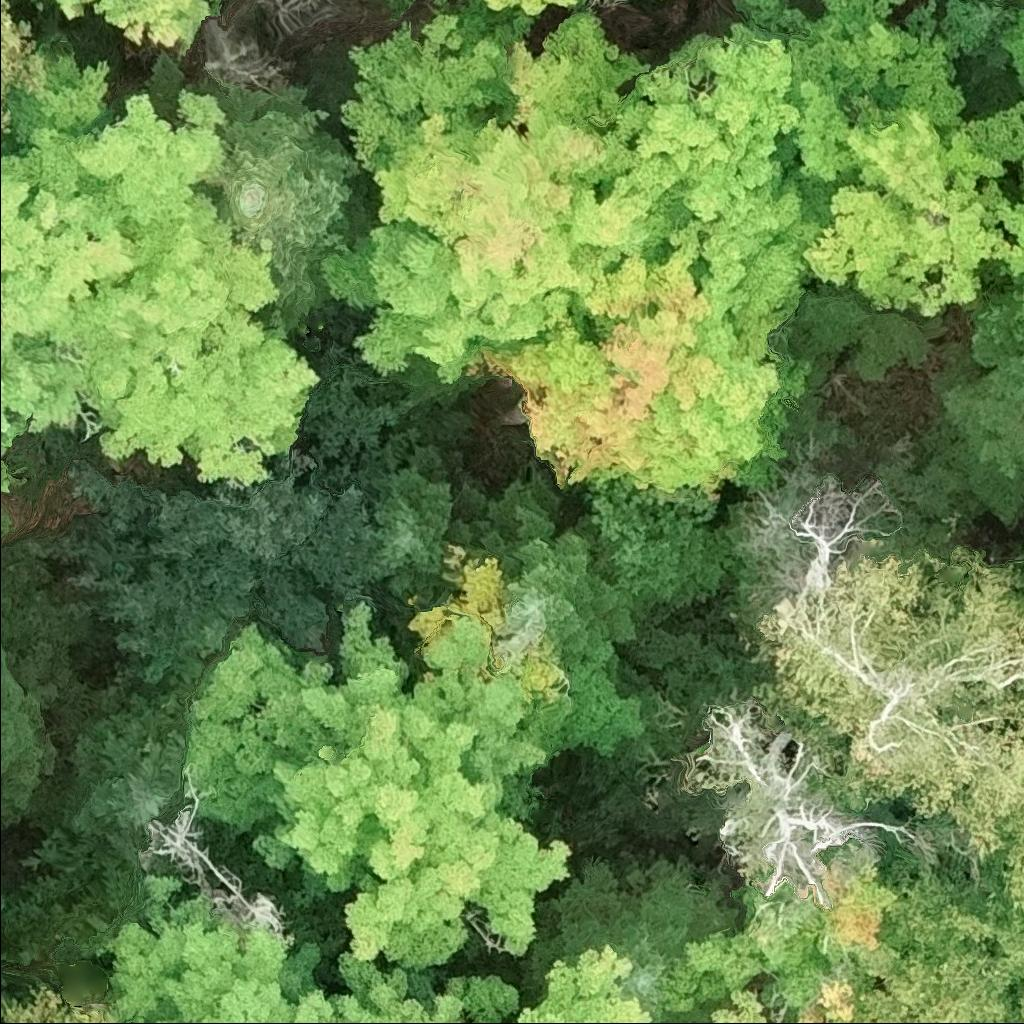crown: (184, 601, 577, 976), (0, 48, 323, 487), (322, 0, 677, 388), (6, 367, 402, 686), (753, 541, 1023, 857), (483, 249, 786, 500), (597, 23, 832, 345), (779, 0, 1015, 317), (134, 51, 377, 330), (101, 874, 524, 1023), (20, 669, 197, 916), (651, 854, 906, 1023), (526, 847, 741, 1023), (463, 474, 643, 669), (353, 428, 494, 636), (137, 766, 293, 943), (854, 864, 1023, 1023), (0, 549, 92, 826), (936, 329, 1023, 525), (0, 334, 90, 497), (800, 482, 908, 593), (512, 941, 658, 1023), (49, 0, 224, 58), (0, 0, 46, 152), (200, 18, 296, 86), (0, 979, 122, 1023), (986, 798, 1023, 904), (253, 0, 349, 38), (999, 194, 1023, 276), (486, 0, 579, 18), (1009, 983, 1023, 1023), (1005, 1000, 1017, 1023), (0, 510, 8, 533), (33, 0, 47, 6), (0, 531, 1, 535)
